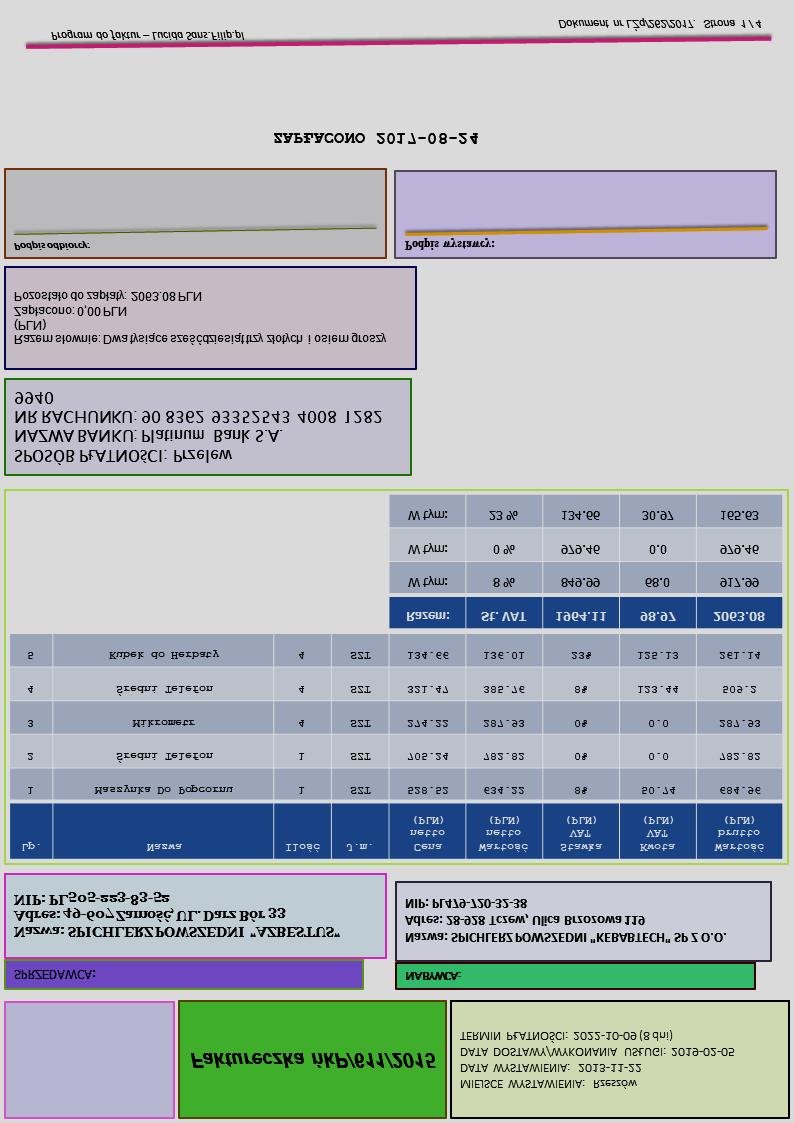Table: (7, 631, 785, 862), (385, 493, 786, 632)
TextBox: (10, 386, 389, 470), (10, 287, 394, 350), (456, 1025, 742, 1096), (10, 886, 342, 945), (401, 891, 733, 950), (187, 1045, 439, 1076), (552, 11, 767, 36), (270, 127, 482, 149), (45, 25, 249, 47), (400, 231, 498, 257), (8, 964, 97, 987), (6, 234, 91, 258), (401, 966, 463, 987)
